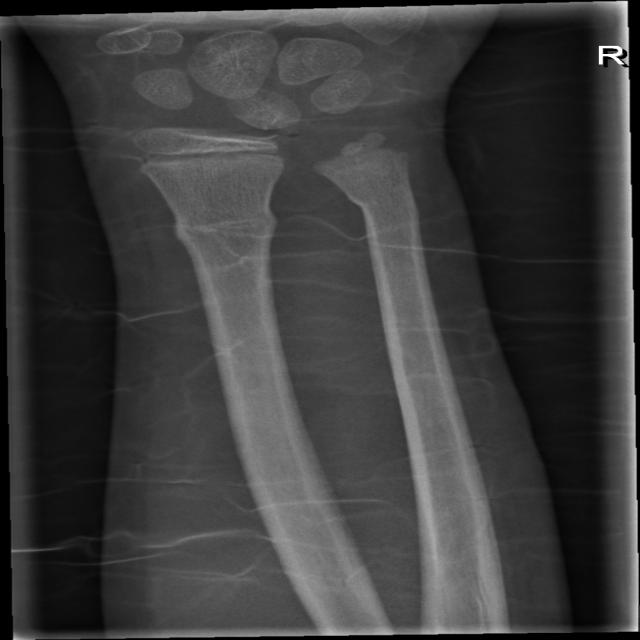radius fracture: (135, 198, 314, 275)
ulna fracture: (341, 181, 445, 256)
